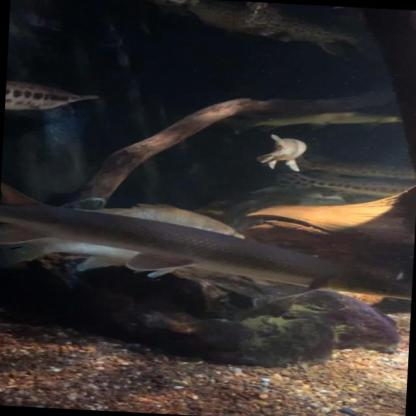fish: (0, 178, 415, 306), (5, 81, 102, 117), (256, 134, 310, 173)
